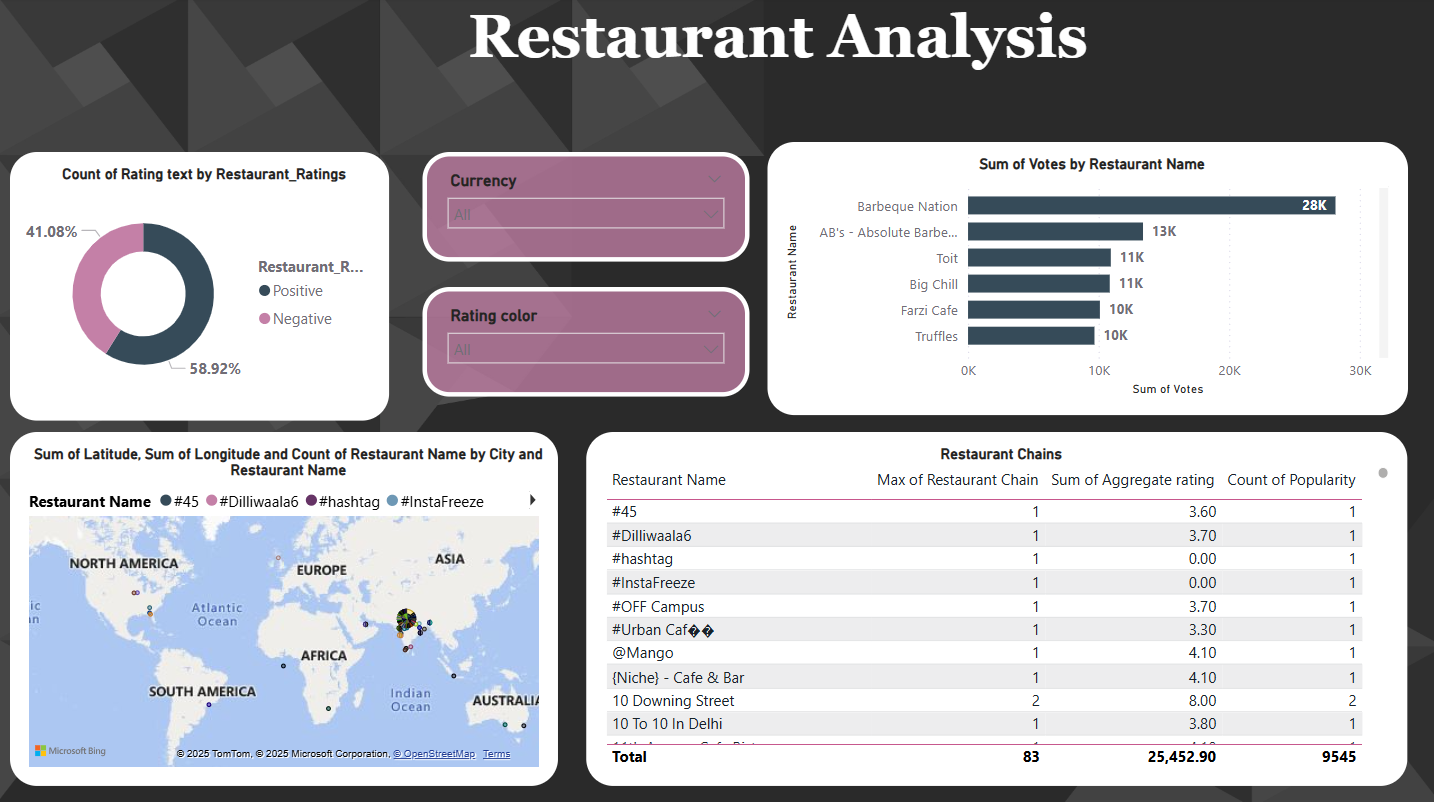

What the dashboard file says about the page in this screenshot:
{"tool":"powerbi","page":{"name":"Page 3","canvas":[1280,720],"ordinal":3},"visuals":[{"type":"map","fields":{"X":["Sum(Dataset.Longitude)"],"Y":["Sum(Dataset.Latitude)"],"Series":["Dataset.Restaurant Name"],"Category":["Dataset.City"],"Size":["CountNonNull(Dataset.Restaurant Name)"]},"box":[8.9,387.8,487.8,315.6],"z":0},{"type":"tableEx","title":"Restaurant Chains","fields":{"Values":["Group BY.Restaurant Name","Max(Group BY.Restaurant Chain)","Sum(Dataset.Aggregate rating)","CountNonNull(Dataset.Popularity)"]},"box":[522.2,387.8,731.1,315.6],"z":1000},{"type":"donutChart","fields":{"Category":["Dataset.Restaurant_Ratings"],"Y":["CountNonNull(Dataset.Rating text)"]},"box":[8.9,137.8,337.8,238.9],"z":2000},{"type":"clusteredBarChart","fields":{"Category":["Dataset.Restaurant Name"],"Y":["Sum(Dataset.Votes)"]},"box":[683.3,128.9,570,243.3],"z":3000},{"type":"textbox","box":[105.6,0,1174.4,74.4],"z":4000},{"type":"slicer","fields":{"Values":["Dataset.Currency"]},"box":[376.7,137.8,291.1,97.8],"z":5000},{"type":"slicer","fields":{"Values":["Dataset.Rating color"]},"box":[376.7,257.8,291.1,97.8],"z":6000}]}

Visuals, with their boxes in screenshot pixels (x1, y1, x2, y2), scaled from the page's 1280x720 canvas onto the 1434x802 screenshot:
map - Sum(Dataset.Longitude) x Sum(Dataset.Latitude): (x1=10, y1=432, x2=556, y2=784)
"Restaurant Chains" tableEx: (x1=585, y1=432, x2=1404, y2=784)
donutChart - Dataset.Restaurant_Ratings x CountNonNull(Dataset.Rating text): (x1=10, y1=153, x2=388, y2=420)
clusteredBarChart - Dataset.Restaurant Name x Sum(Dataset.Votes): (x1=766, y1=144, x2=1404, y2=415)
textbox: (x1=118, y1=0, x2=1433, y2=83)
slicer - Dataset.Currency: (x1=422, y1=153, x2=748, y2=262)
slicer - Dataset.Rating color: (x1=422, y1=287, x2=748, y2=396)
